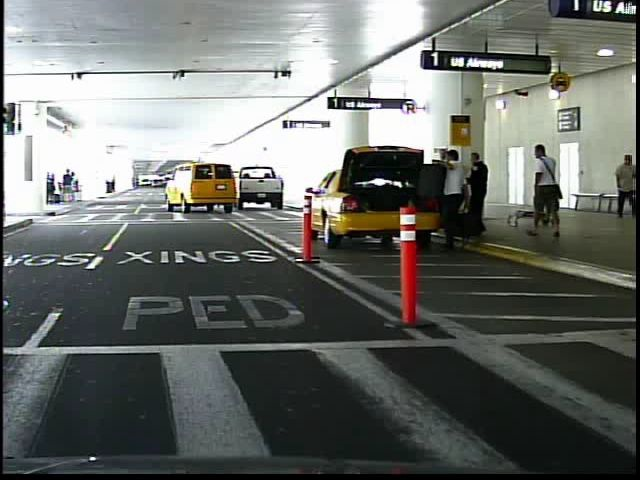person: (522, 138, 560, 240), (606, 149, 633, 221)
